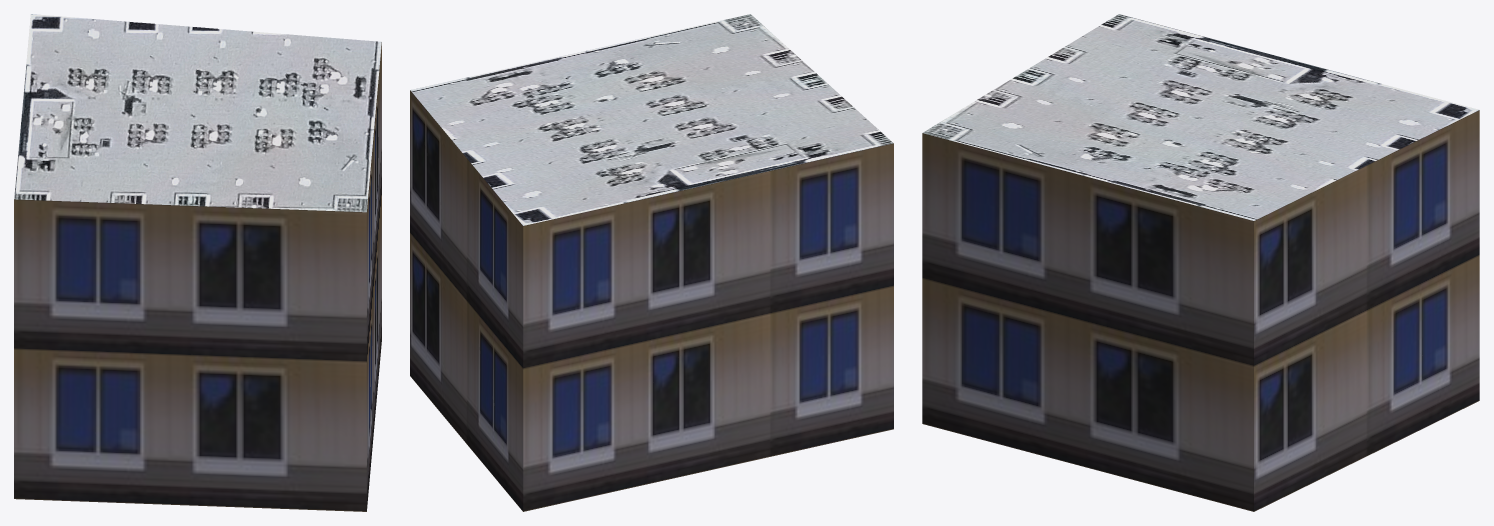
The model's file is ResTex__684.fbx.
3 views of the same model, side by side, from view 1: azimuth 30°, elevation 25°; view 2: azimuth 150°, elevation 25°; view 3: azimuth 270°, elevation 25° (orthographic). The views are drawn at different scales.
Parts seen in each view (by area): view 1: CityEngineMaterial_5_m, CityEngineMaterial_m; view 2: CityEngineMaterial_5_m, CityEngineMaterial_m; view 3: CityEngineMaterial_5_m, CityEngineMaterial_m.
Boxes of the visible parts, <box> form: CityEngineMaterial_5_m: <box>14,42,381,511</box>; CityEngineMaterial_m: <box>14,14,381,212</box>; CityEngineMaterial_5_m: <box>410,90,893,511</box>; CityEngineMaterial_m: <box>410,14,893,225</box>; CityEngineMaterial_5_m: <box>922,110,1479,511</box>; CityEngineMaterial_m: <box>923,14,1478,220</box>.
Bounding box in the file's own units: 9.16 × 6 × 10.42.
2 materials, 2 textured.
